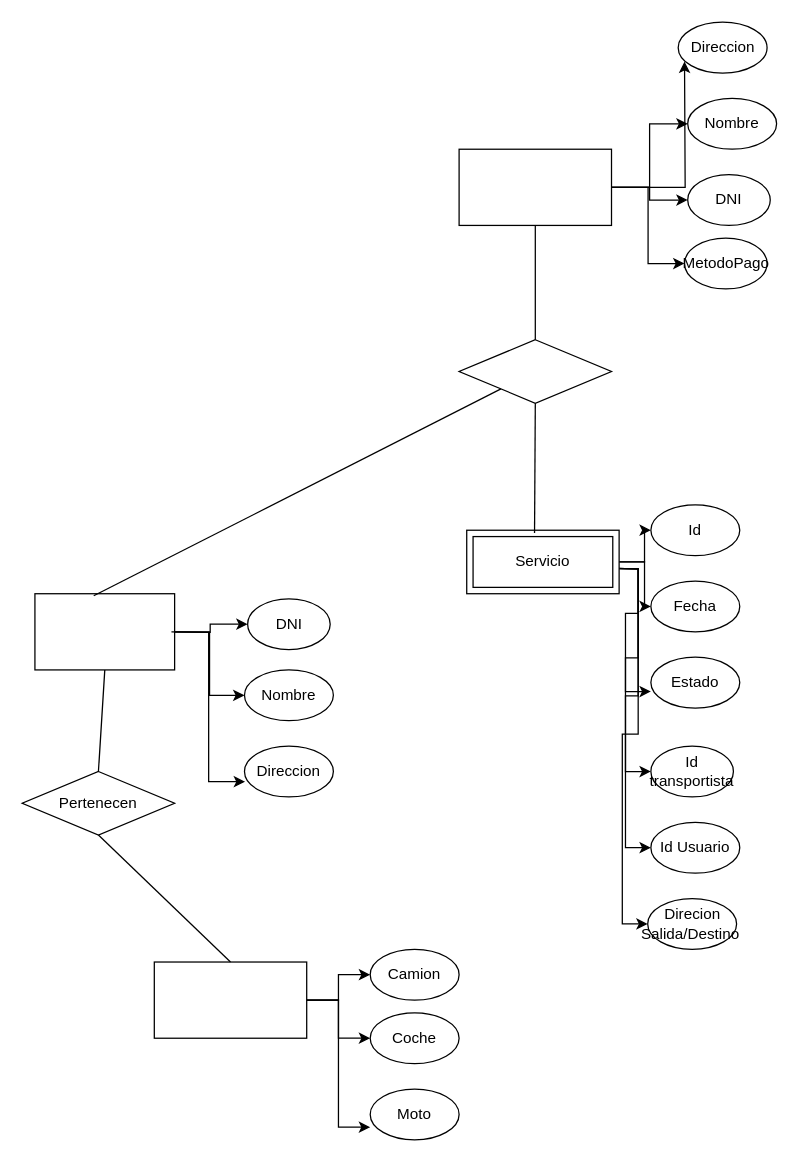
Image size: 799x1162. Some labels were removed from this diagram. Each missing label, with the centre of its shape:
Asignar: the point at 535,370
Conductor: the point at 104,631
Usuario: the point at 535,186
Vehiculo: the point at 230,999
